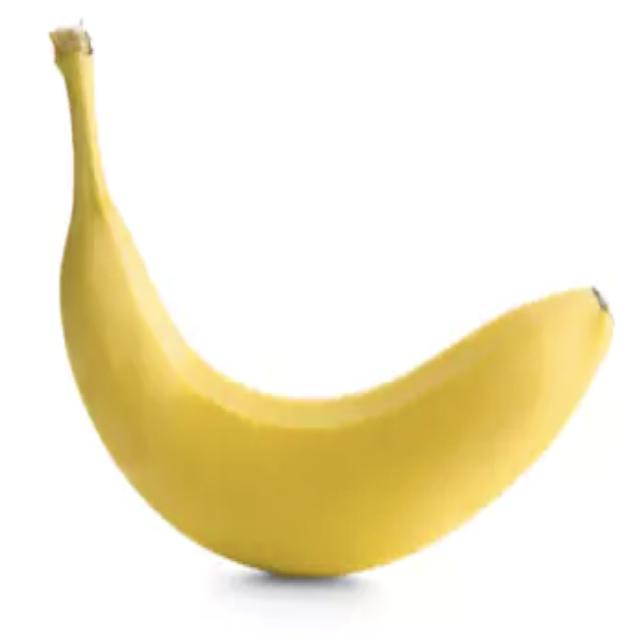fresh-banana: (48, 18, 614, 580)
